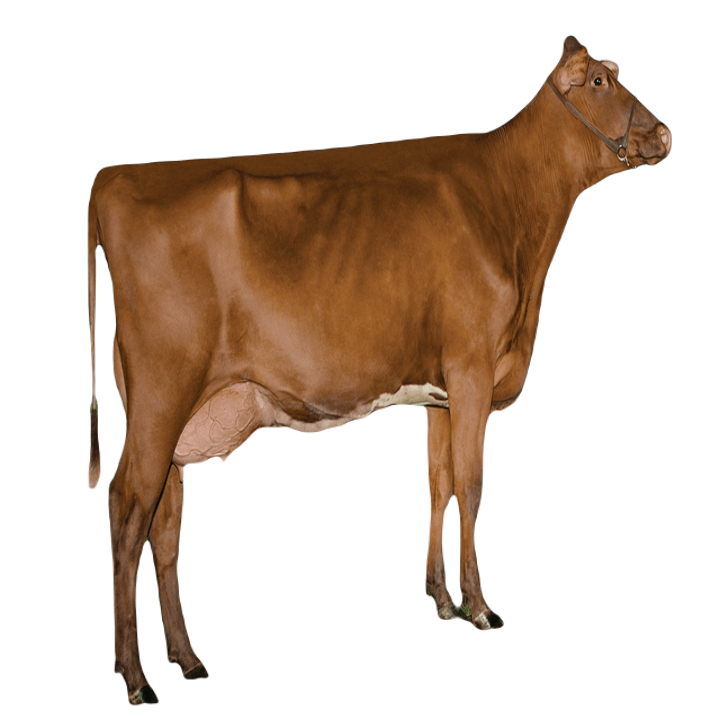Cow: (84, 31, 674, 704)
